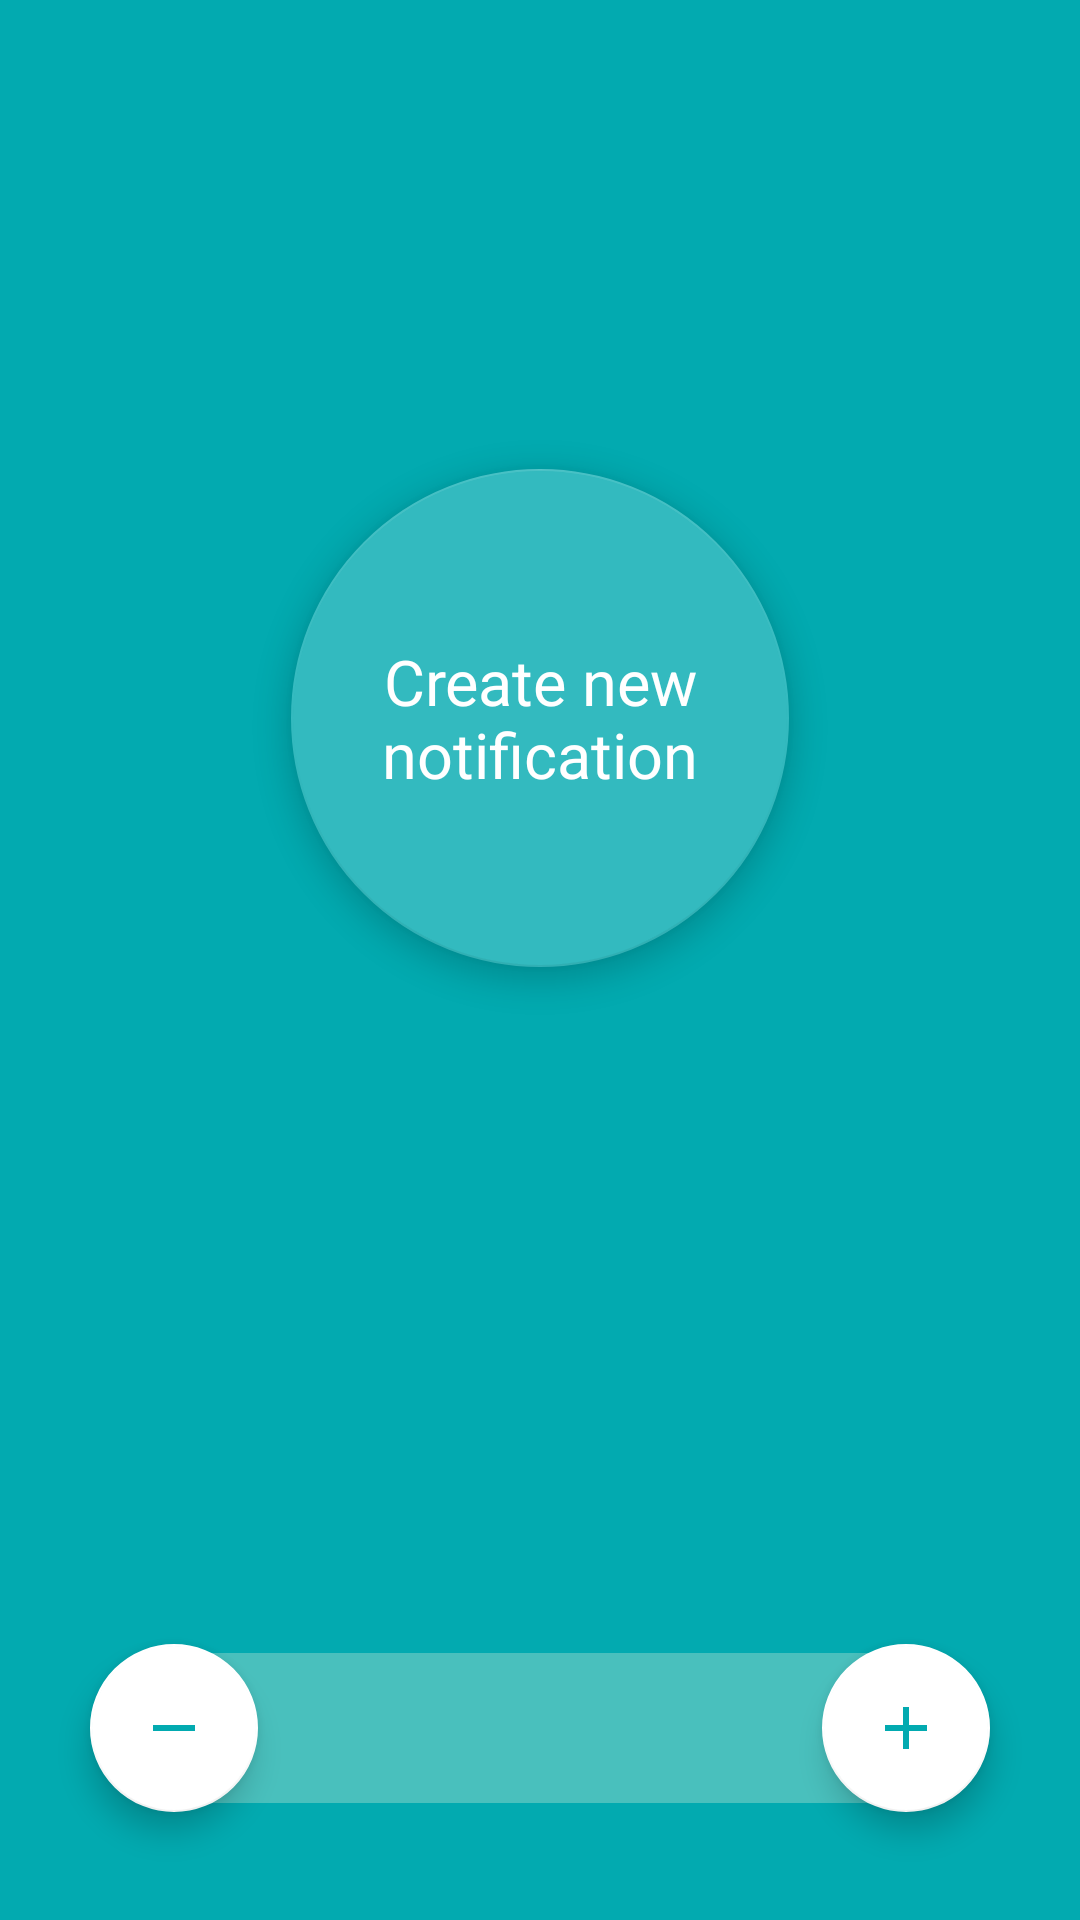

Named icons in this screenshot (1080*1920) and their centers, (x,y):
add fab: (906,1728)
remove fab: (174,1728)
